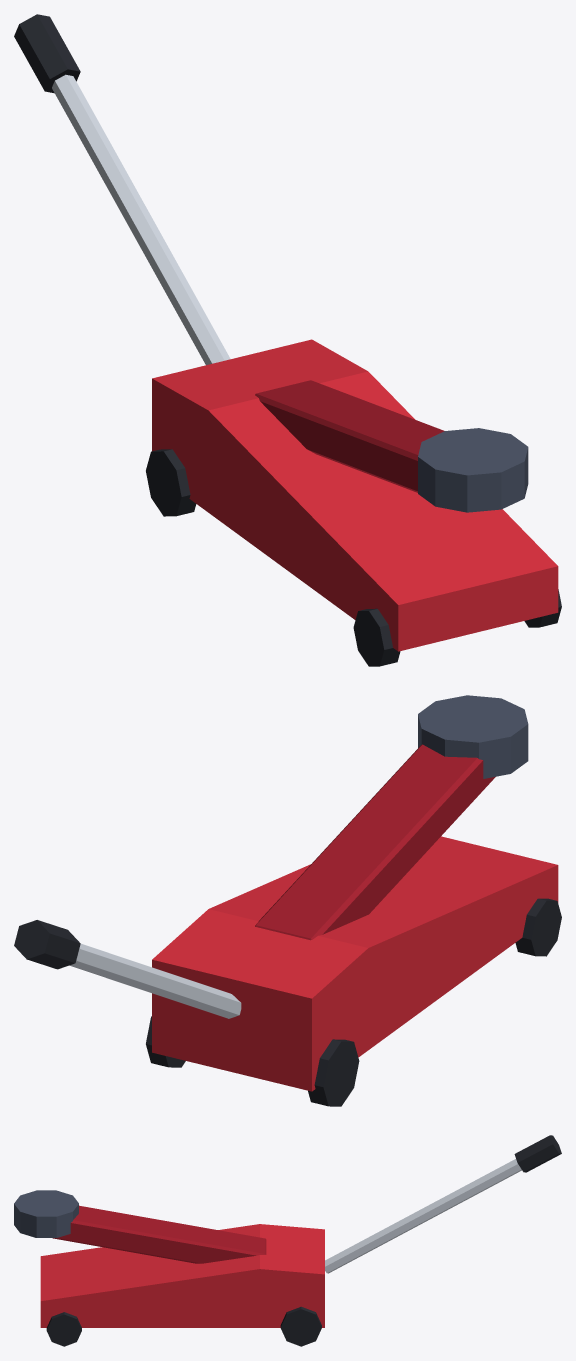
Rendered from FloorJack.fbx.
The picture shows the model from 3 angles, top to bottom: view 1: azimuth 30°, elevation 25°; view 2: azimuth 150°, elevation 25°; view 3: azimuth 270°, elevation 25°; orthographic projection. The views are drawn at different scales.
Visible parts, largest first — view 1: FloorJack; view 2: FloorJack; view 3: FloorJack.
Part boxes in pixels (x1,y1,x2,y2): FloorJack: (14, 14, 561, 666); FloorJack: (14, 695, 561, 1106); FloorJack: (14, 1135, 561, 1346).
Size of the model in its own units: 2 by 3.47 by 9.25.
Materials: 1 (1 with a texture image).
